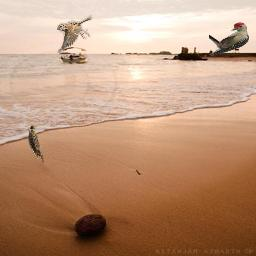Sparrow: (57, 14, 93, 54), (28, 125, 44, 165)
Woodpecker: (209, 22, 249, 57)
